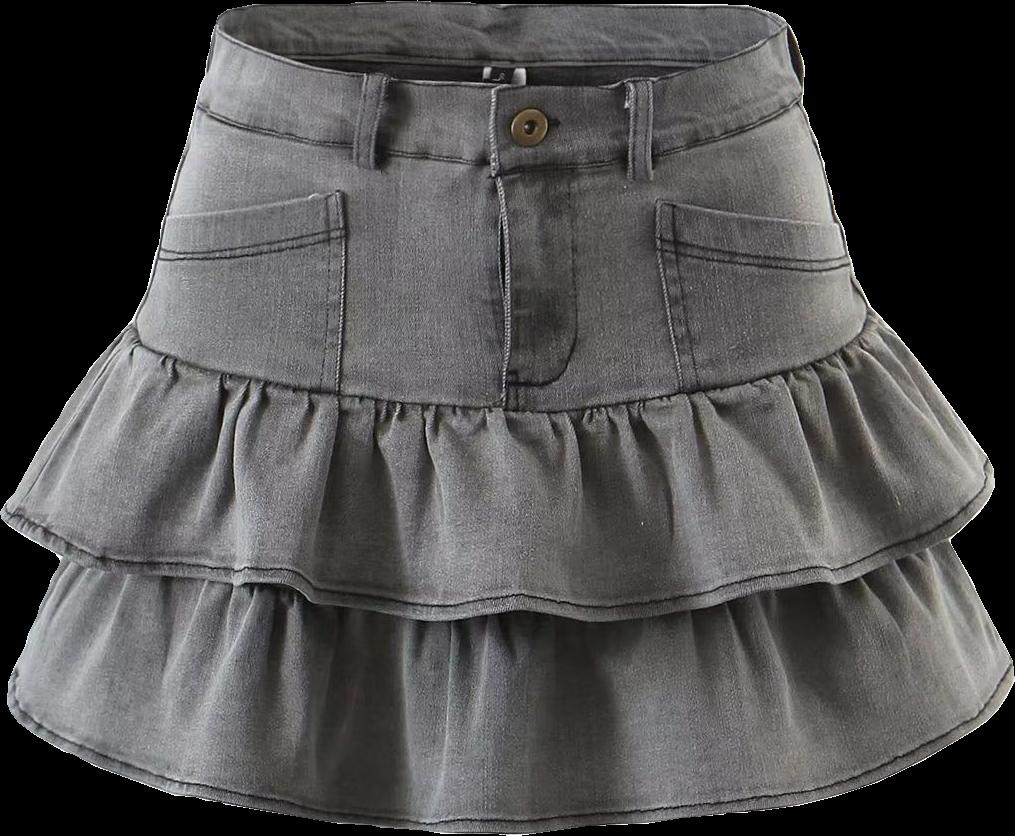Hemline: (3, 671, 1014, 833), (0, 462, 1002, 620)
Waistline: (126, 310, 877, 405), (189, 94, 807, 168), (210, 17, 792, 94)
